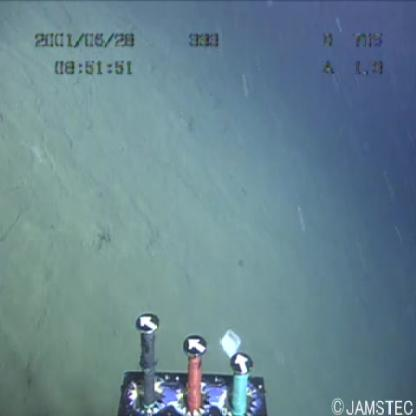Rov: (109, 307, 275, 416)
Rác: (218, 321, 242, 357)
